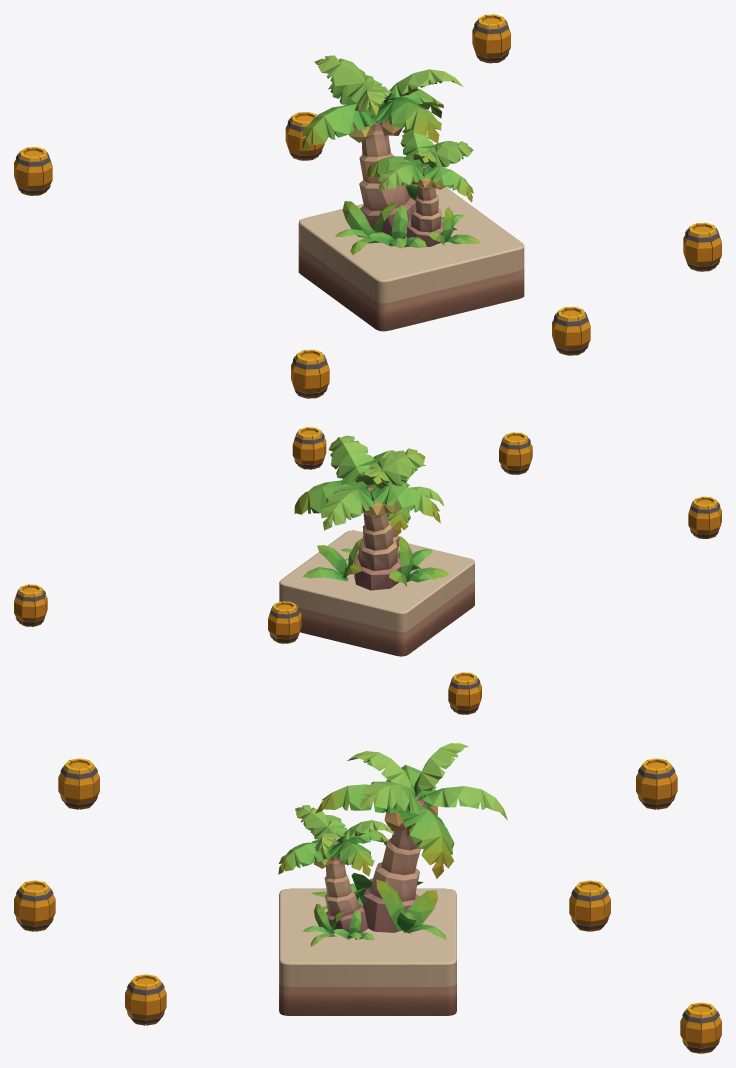
File: Props.fbx
The picture shows the model from 3 angles, top to bottom: view 1: azimuth 30°, elevation 25°; view 2: azimuth 150°, elevation 25°; view 3: azimuth 270°, elevation 25°; orthographic projection. The views are drawn at different scales.
Visible parts, largest first — view 1: yezishu01, Box02, Cask (4), Cask (3), Cask (1), Cask (5), Cask, Cask (2); view 2: yezishu01, Box02, Cask (5), Cask, Cask (2), Cask (3), Cask (1), Cask (4); view 3: yezishu01, Box02, Cask (3), Cask, Cask (1), Cask (4), Cask (5), Cask (2).
Part boxes in pixels (x1,y1,x2,y2): yezishu01: (301,55,480,255); Box02: (298,187,524,331); Cask (4): (472,14,510,63); Cask (3): (552,306,590,355); Cask (1): (291,349,329,398); Cask (5): (683,222,721,271); Cask: (14,147,52,195); Cask (2): (285,112,324,160); yezishu01: (294,435,449,590); Box02: (279,530,474,656); Cask (5): (292,427,326,469); Cask: (448,672,481,714); Cask (2): (268,601,301,643); Cask (3): (499,432,532,474); Cask (1): (688,496,721,538); Cask (4): (14,584,47,626); yezishu01: (278,743,507,946); Box02: (279,888,456,1015); Cask (3): (14,880,55,931); Cask: (636,758,677,809); Cask (1): (58,758,99,809); Cask (4): (680,1002,721,1053); Cask (5): (125,974,166,1025); Cask (2): (569,880,610,931).
Bounding box in the file's own units: 27.88 × 10.64 × 31.88.
